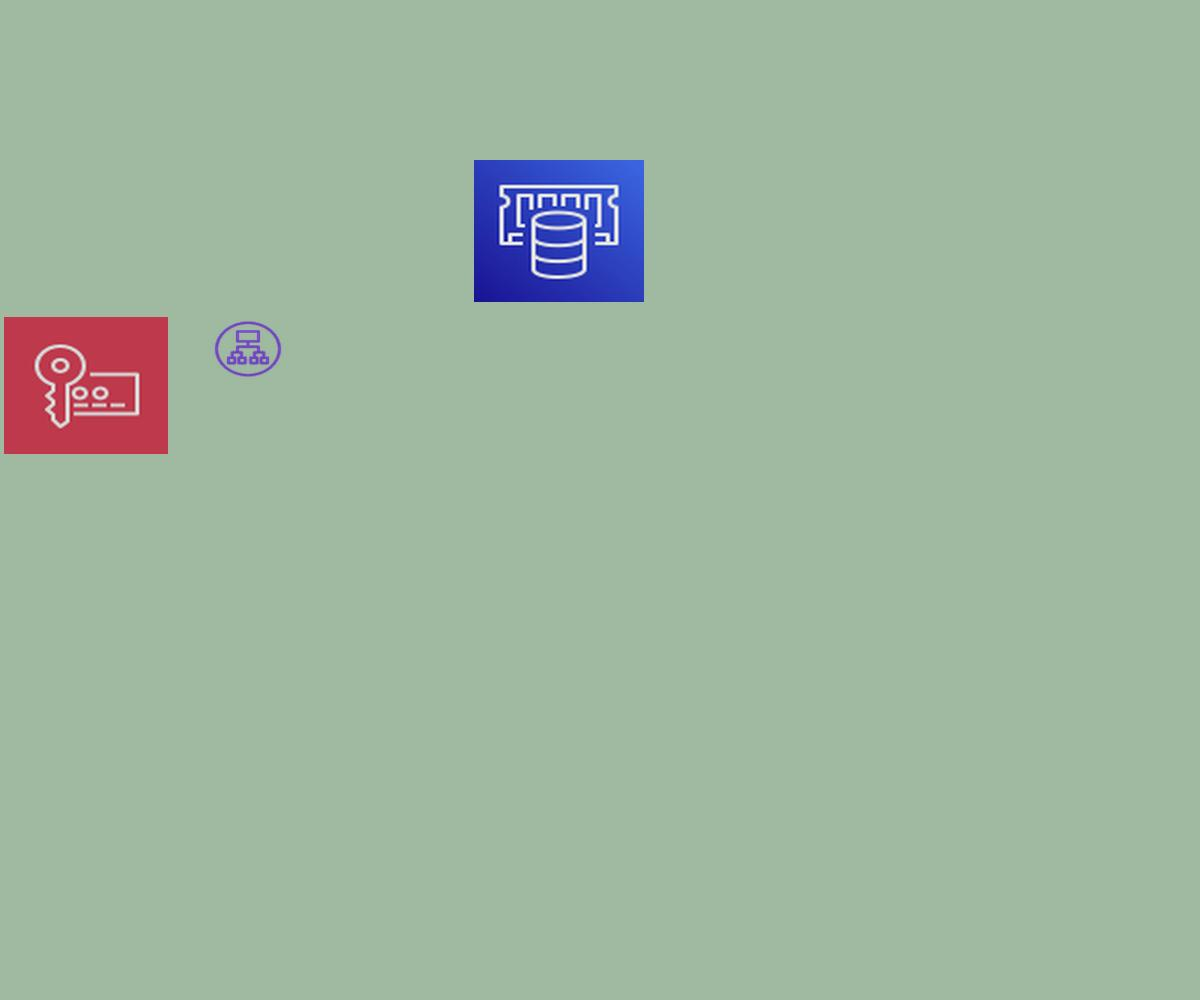AWS-ElastiCache: (474, 160, 644, 302)
AWS-Key-Management-Service: (4, 317, 168, 454)
AWS-Res_Elastic-Load-Balancing_Application-Load-Balancer: (212, 319, 284, 379)
